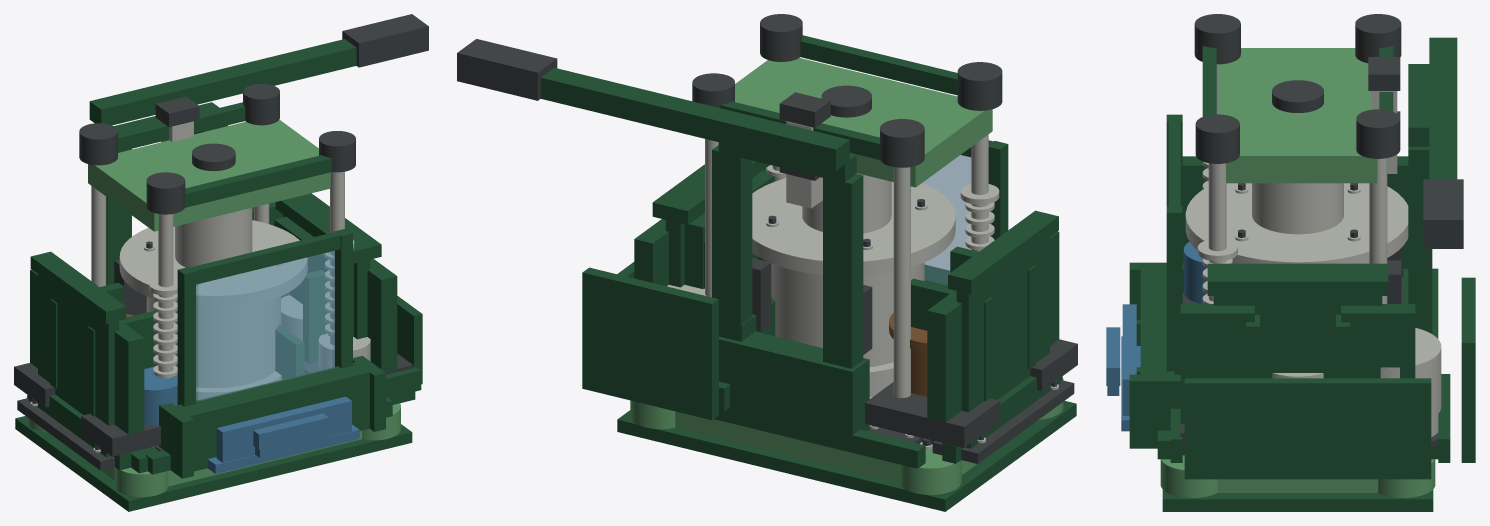
The model's file is seedling-kit.glb.
3 renders of one model, left to right at view 1: azimuth 30°, elevation 25°; view 2: azimuth 150°, elevation 25°; view 3: azimuth 270°, elevation 25°, orthographic. The views are drawn at different scales.
Parts seen in each view (by area): view 1: Native CAD geometry 1, Native CAD geometry 3, Native CAD geometry 4, Native CAD geometry 7, Native CAD geometry 2, Native CAD geometry 5; view 2: Native CAD geometry 1, Native CAD geometry 3, Native CAD geometry 4, Native CAD geometry 2, Native CAD geometry 7, Native CAD geometry 6; view 3: Native CAD geometry 1, Native CAD geometry 2, Native CAD geometry 3, Native CAD geometry 4, Native CAD geometry 5.
Boxes of the visible parts, x1=… form: Native CAD geometry 1: x1=15, y1=39, x2=422, y2=511; Native CAD geometry 3: x1=30, y1=121, x2=370, y2=452; Native CAD geometry 4: x1=14, y1=14, x2=428, y2=470; Native CAD geometry 7: x1=196, y1=251, x2=334, y2=400; Native CAD geometry 2: x1=26, y1=120, x2=400, y2=497; Native CAD geometry 5: x1=144, y1=366, x2=359, y2=473; Native CAD geometry 1: x1=540, y1=35, x2=1076, y2=511; Native CAD geometry 3: x1=667, y1=121, x2=1058, y2=449; Native CAD geometry 4: x1=457, y1=14, x2=1077, y2=463; Native CAD geometry 2: x1=630, y1=58, x2=1063, y2=494; Native CAD geometry 7: x1=922, y1=155, x2=971, y2=286; Native CAD geometry 6: x1=889, y1=313, x2=927, y2=396; Native CAD geometry 1: x1=1129, y1=37, x2=1475, y2=511; Native CAD geometry 2: x1=1160, y1=48, x2=1435, y2=497; Native CAD geometry 3: x1=1185, y1=64, x2=1441, y2=437; Native CAD geometry 4: x1=1180, y1=14, x2=1463, y2=455; Native CAD geometry 5: x1=1106, y1=242, x2=1206, y2=431.
Size of the model in its own units: 0.581 by 0.402 by 0.368.
